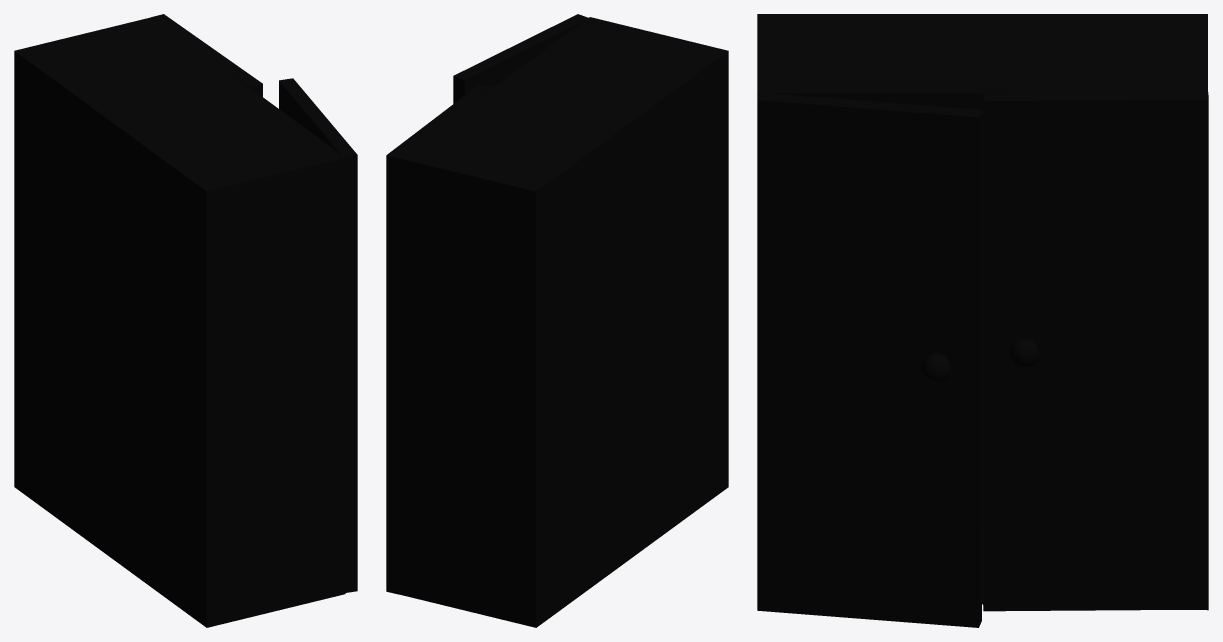
File: Kast.fbx
3 views of the same model, side by side, from view 1: azimuth 30°, elevation 25°; view 2: azimuth 150°, elevation 25°; view 3: azimuth 270°, elevation 25° (orthographic). The views are drawn at different scales.
Visible parts, largest first — view 1: pCube1, pCube2, pCube3; view 2: pCube1, pCube3, pCube2; view 3: pCube3, pCube2, pCube1, pSphere2, pSphere1.
Boxes of the visible parts, bbox=[...] form: pCube1: bbox=[14, 17, 345, 627]; pCube2: bbox=[279, 78, 357, 592]; pCube3: bbox=[151, 14, 262, 96]; pCube1: bbox=[398, 17, 728, 627]; pCube3: bbox=[386, 84, 492, 594]; pCube2: bbox=[453, 14, 588, 103]; pCube3: bbox=[983, 92, 1208, 611]; pCube2: bbox=[757, 93, 981, 627]; pCube1: bbox=[757, 14, 1207, 604]; pSphere2: bbox=[921, 353, 950, 382]; pSphere1: bbox=[1009, 338, 1039, 367].
Size of the model in its own units: 3.28 by 7.03 by 5.63.
